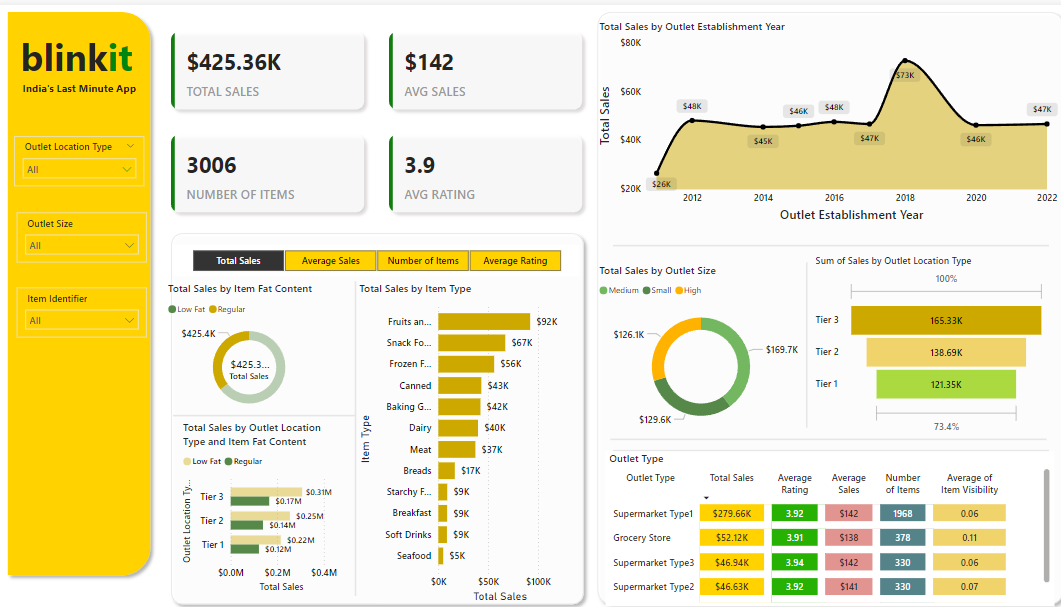

The page's visual inventory and layout, read from the dashboard file:
{"tool":"powerbi","page":{"name":"Page 1","canvas":[1400,800],"ordinal":0},"visuals":[{"type":"shape","box":[10,0,204,750],"z":0},{"type":"textbox","box":[31.6,30,168.8,83.6],"z":1000},{"type":"textbox","box":[28.4,94.7,168.8,36.3],"z":2000},{"type":"cardVisual","fields":{"Data":["BlinkIT Grocery Data.Total Sales","BlinkIT Grocery Data.Average Sales","BlinkIT Grocery Data.Number of Items","BlinkIT Grocery Data.Average Rating"]},"box":[214.3,17.9,568.3,269.5],"z":3000},{"type":"shape","box":[222.5,287.4,553.7,500.1],"z":4000},{"type":"donutChart","fields":{"Y":["BlinkIT Grocery Data.Total Sales"],"Category":["BlinkIT Grocery Data.Item Fat Content"]},"box":[222.5,358.9,220.8,178.6],"z":5000},{"type":"slicer","fields":{"Values":["Metrics.Metrics"]},"box":[233.8,311.8,527.7,40.6],"z":6000},{"type":"cardVisual","fields":{"Data":["BlinkIT Grocery Data.Total Sales"]},"box":[287.4,428.7,90.9,89.3],"z":7000},{"type":"clusteredBarChart","fields":{"Y":["BlinkIT Grocery Data.Total Sales"],"Category":["BlinkIT Grocery Data.Outlet Location Type"],"Series":["BlinkIT Grocery Data.Item Fat Content"]},"box":[241.9,539.1,220.8,229],"z":8000},{"type":"shape","box":[233.8,518,237.1,30.9],"z":9000},{"type":"shape","box":[454.7,358.9,32.5,409.2],"z":10000},{"type":"barChart","fields":{"Y":["BlinkIT Grocery Data.Total Sales"],"Category":["BlinkIT Grocery Data.Item Type"]},"box":[470.9,358.9,290.7,422.2],"z":11000},{"type":"shape","box":[776.2,0,623.5,787.5],"z":12000},{"type":"lineChart","fields":{"Category":["BlinkIT Grocery Data.Outlet Establishment Year"],"Y":["BlinkIT Grocery Data.Total Sales"]},"box":[782.7,17.9,605.7,269.5],"z":13000},{"type":"shape","box":[805.4,297.2,566.7,30.9],"z":14000},{"type":"donutChart","fields":{"Y":["BlinkIT Grocery Data.Total Sales"],"Category":["BlinkIT Grocery Data.Outlet Size"]},"box":[782.7,334.5,274.4,225.7],"z":15000},{"type":"shape","box":[1040.8,334.5,32.5,214.3],"z":16000},{"type":"funnel","fields":{"Category":["BlinkIT Grocery Data.Outlet Location Type"],"Y":["Sum(BlinkIT Grocery Data.Sales)"]},"box":[1063.6,323.1,308.5,240.3],"z":17000},{"type":"shape","box":[805.4,563.5,566.7,30.9],"z":18000},{"type":"pivotTable","title":"Outlet Type","fields":{"Rows":["BlinkIT Grocery Data.Outlet Type"],"Values":["BlinkIT Grocery Data.Total Sales","BlinkIT Grocery Data.Average Rating","BlinkIT Grocery Data.Average Sales","BlinkIT Grocery Data.Number of Items","Avg(BlinkIT Grocery Data.Item Visibility)"]},"box":[795.7,579.7,582.9,201.3],"z":19000},{"type":"shape","box":[802.1,548.8,566.7,30.9],"z":20000},{"type":"slicer","fields":{"Values":["BlinkIT Grocery Data.Item Identifier"]},"box":[30.9,367,168.9,65],"z":21000},{"type":"slicer","fields":{"Values":["BlinkIT Grocery Data.Outlet Size"]},"box":[30.9,269.5,168.9,65],"z":22000},{"type":"slicer","fields":{"Values":["BlinkIT Grocery Data.Outlet Location Type"]},"box":[27.6,170.5,168.9,65],"z":23000}]}

Visuals, with their boxes in screenshot pixels (x1, y1, x2, y2), scaled from the page's 1400x800 canvas onto the 1061x607 screenshot:
shape: locate(8, 0, 162, 569)
textbox: locate(24, 23, 152, 86)
textbox: locate(22, 72, 149, 99)
cardVisual - BlinkIT Grocery Data.Total Sales x BlinkIT Grocery Data.Average Sales: locate(162, 14, 593, 218)
shape: locate(169, 218, 588, 598)
donutChart - BlinkIT Grocery Data.Total Sales x BlinkIT Grocery Data.Item Fat Content: locate(169, 272, 336, 408)
slicer - Metrics.Metrics: locate(177, 237, 577, 267)
cardVisual - BlinkIT Grocery Data.Total Sales: locate(218, 325, 287, 393)
clusteredBarChart - BlinkIT Grocery Data.Total Sales x BlinkIT Grocery Data.Outlet Location Type: locate(183, 409, 351, 583)
shape: locate(177, 393, 357, 416)
shape: locate(345, 272, 369, 583)
barChart - BlinkIT Grocery Data.Total Sales x BlinkIT Grocery Data.Item Type: locate(357, 272, 577, 593)
shape: locate(588, 0, 1060, 598)
lineChart - BlinkIT Grocery Data.Outlet Establishment Year x BlinkIT Grocery Data.Total Sales: locate(593, 14, 1052, 218)
shape: locate(610, 226, 1040, 249)
donutChart - BlinkIT Grocery Data.Total Sales x BlinkIT Grocery Data.Outlet Size: locate(593, 254, 801, 425)
shape: locate(789, 254, 813, 416)
funnel - BlinkIT Grocery Data.Outlet Location Type x Sum(BlinkIT Grocery Data.Sales): locate(806, 245, 1040, 427)
shape: locate(610, 428, 1040, 451)
"Outlet Type" pivotTable: locate(603, 440, 1045, 593)
shape: locate(608, 416, 1037, 440)
slicer - BlinkIT Grocery Data.Item Identifier: locate(23, 278, 151, 328)
slicer - BlinkIT Grocery Data.Outlet Size: locate(23, 204, 151, 254)
slicer - BlinkIT Grocery Data.Outlet Location Type: locate(21, 129, 149, 179)
